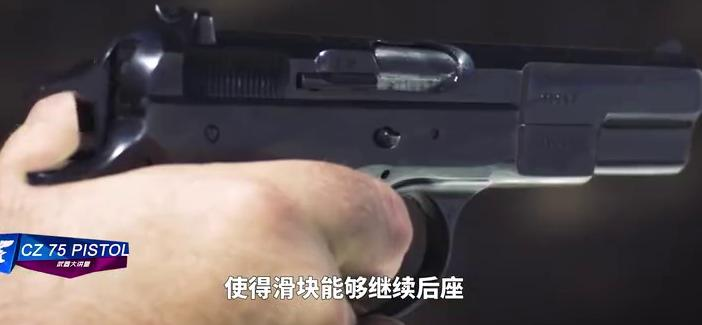gun: (1, 1, 702, 325)
